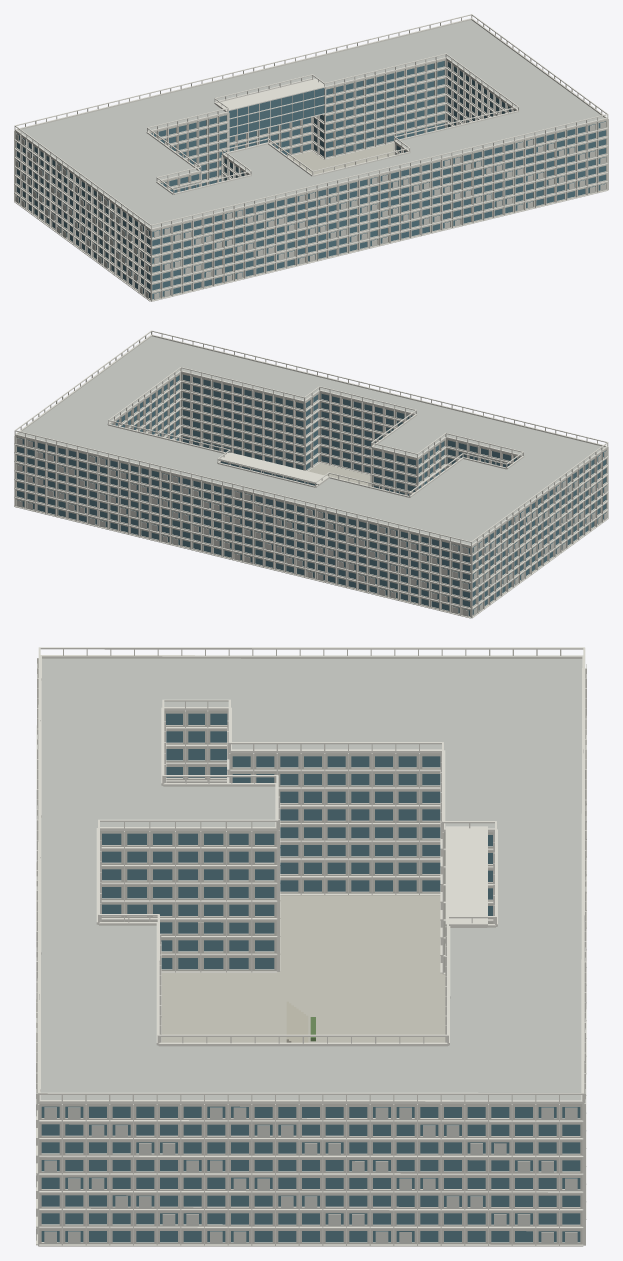
File: info.far.glb
The picture shows the model from 3 angles, top to bottom: view 1: azimuth 30°, elevation 25°; view 2: azimuth 150°, elevation 25°; view 3: azimuth 270°, elevation 25°; orthographic projection. The views are drawn at different scales.
Visible parts, largest first — view 1: roof, trim, glass, wall, screen, paving; view 2: trim, roof, wall, glass, screen, paving; view 3: roof, glass, trim, wall, paving, screen.
Part boxes in pixels (box(x1,y1,x2,y2)): roof: box(18, 20, 604, 228); trim: box(14, 14, 608, 301); glass: box(16, 61, 605, 299); wall: box(15, 59, 607, 300); screen: box(15, 122, 605, 299); paving: box(289, 143, 393, 174); trim: box(14, 330, 608, 618); roof: box(18, 336, 604, 544); wall: box(15, 372, 607, 617); glass: box(17, 374, 606, 615); screen: box(17, 438, 607, 616); paving: box(309, 463, 370, 486); roof: box(40, 658, 582, 1100); glass: box(41, 713, 580, 1242); trim: box(36, 647, 586, 1246); wall: box(39, 710, 582, 1244); paving: box(161, 895, 445, 1042); screen: box(36, 663, 586, 1244).
Size of the model in its own units: 166 by 26.4 by 86.59.
